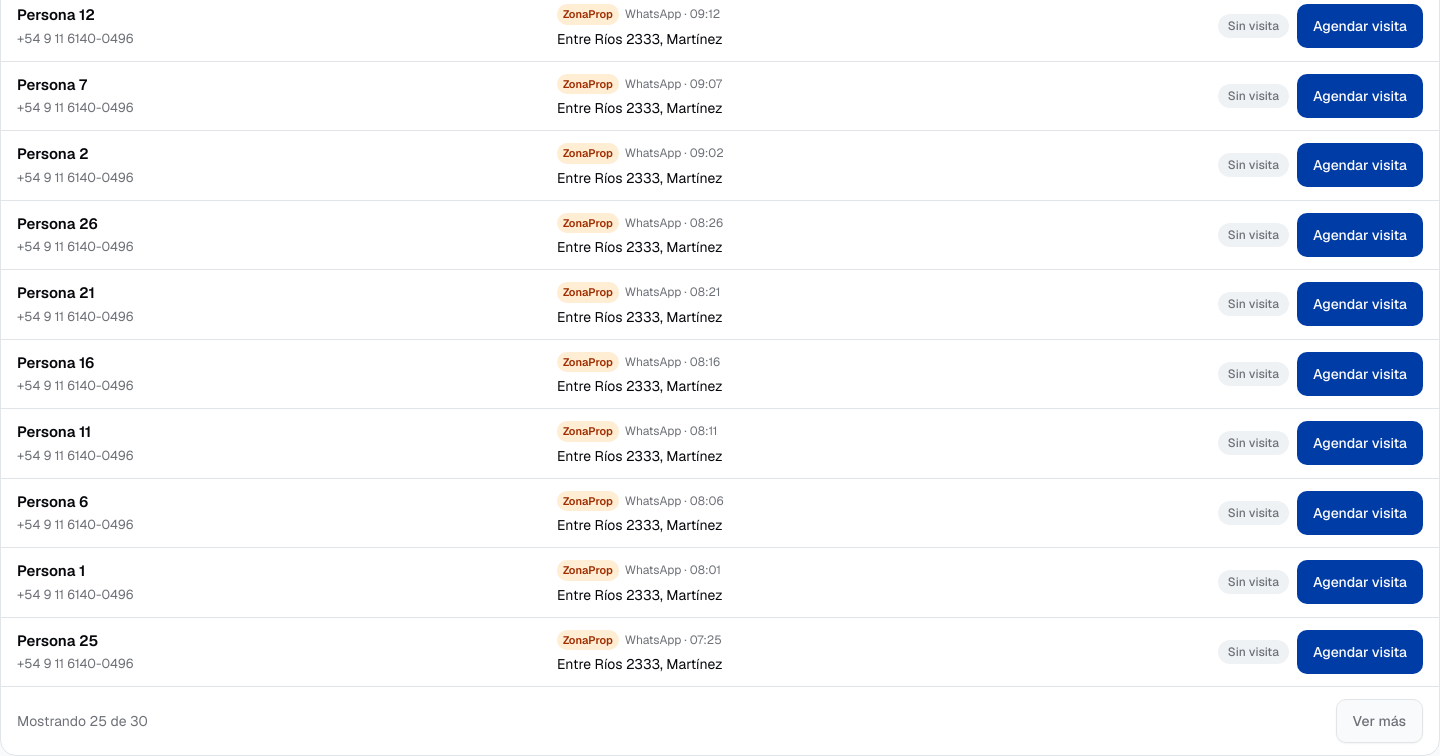
it: /consultas — velocidad › filtrar por portal, buscar y "Ver más" no piden nada a la red
(page scrolled)
Expected: the text "Mostrando 25 de 30" is shown, x1=17 y1=711 x2=148 y2=731
Click the button "Ver más" at (1379, 721), box x1=1336 y1=699 x2=1423 y2=743
(page scrolled)
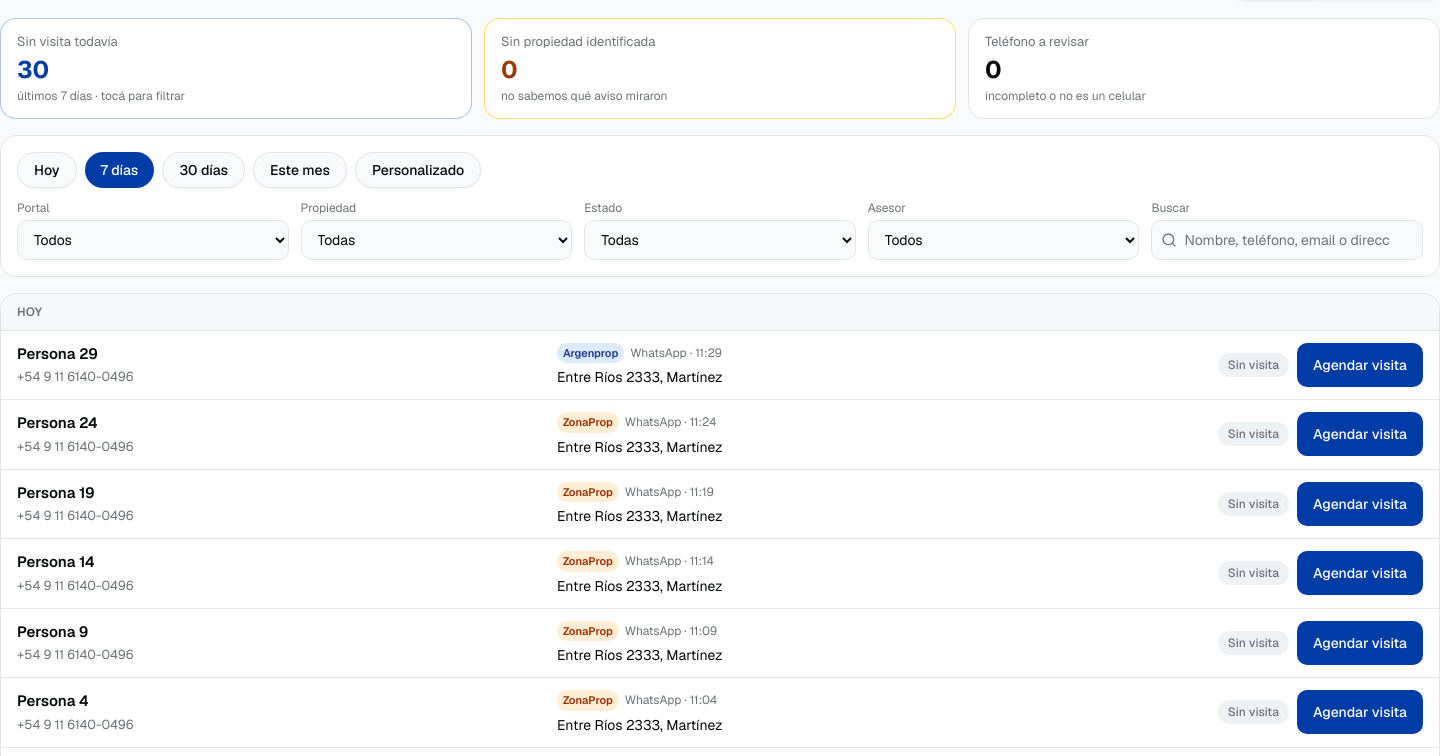
Select "Argenprop (2)" in the dropdown labelled "Portal" at (153, 240), box x1=17 y1=220 x2=289 y2=260
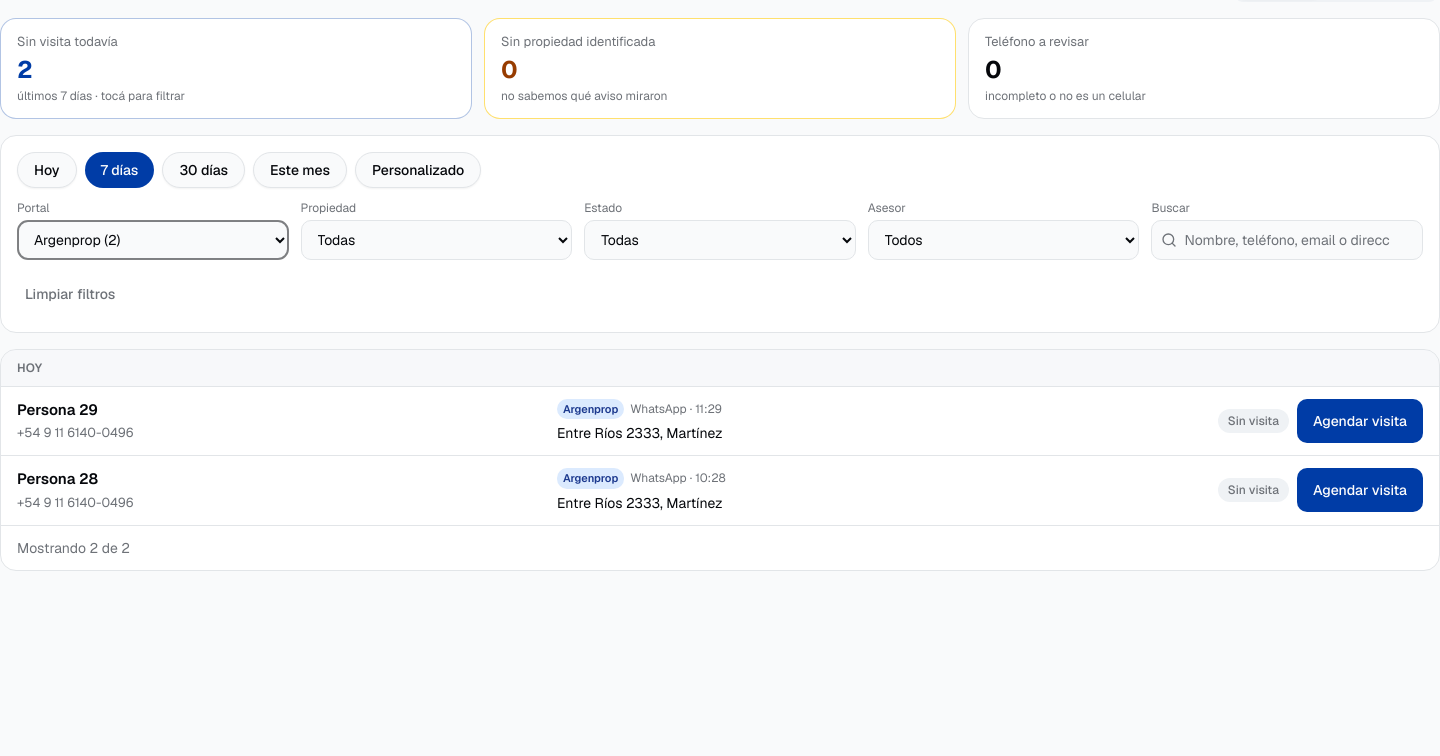
Expected: the text "Mostrando 2 de 2" is shown, x1=17 y1=538 x2=130 y2=558
